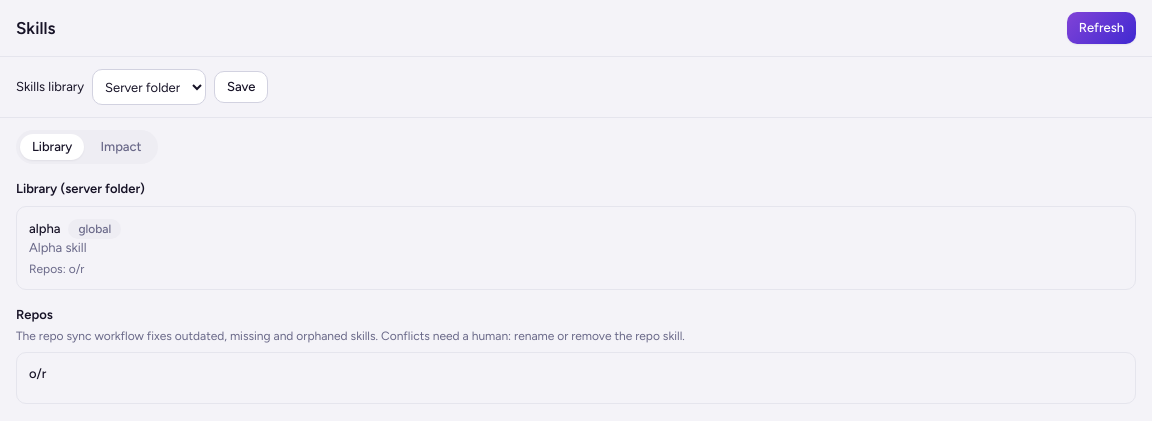
it: SkillsView › has an Impact tab that shows the descriptive impact view
This screenshot has width=1152, height=421.
Expected: the list item with aria-label "Library skill alpha" is shown, [16,206,1136,290]
Click the tab "Impact": (121, 147) [88,134,154,160]
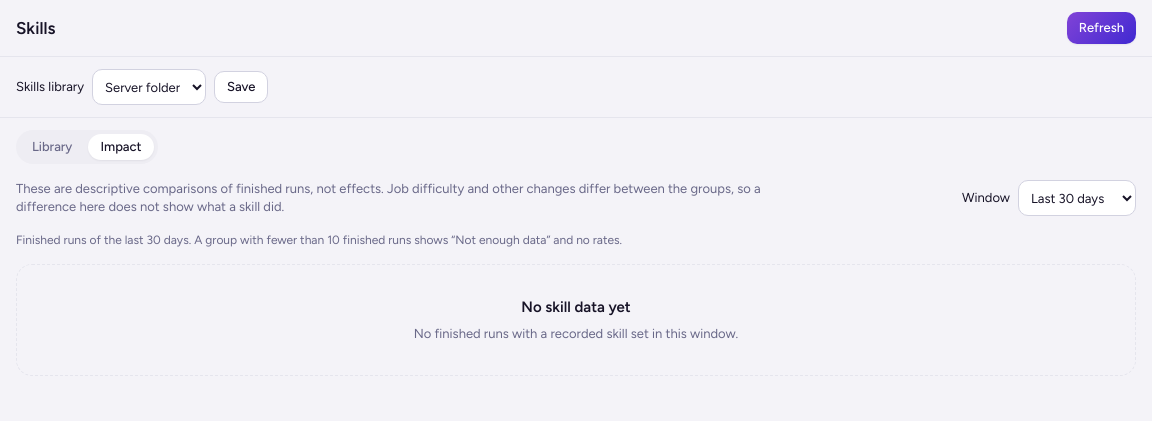
Result: the text "descriptive comparisons of finished runs" is shown at [16,181,761,214]
Result: the heading "No skill data yet" is shown at [521,297,631,317]
